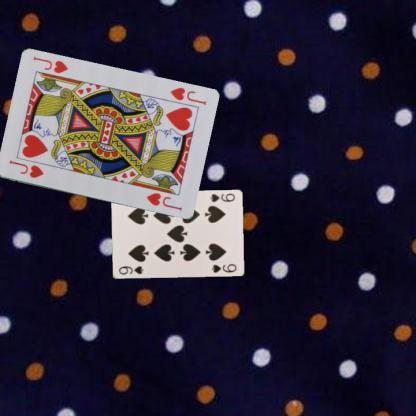9s: (207, 191, 236, 203), (116, 264, 145, 275)
Jh: (6, 157, 45, 180), (168, 84, 208, 106)
